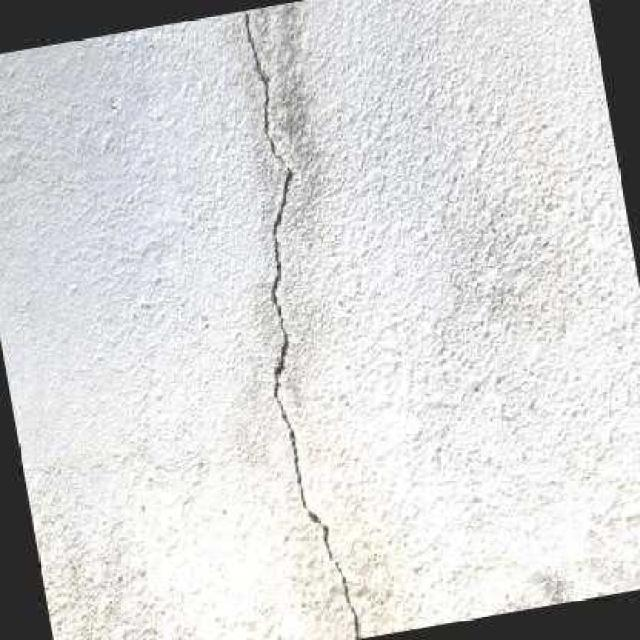D00: (239, 8, 305, 507), (303, 506, 360, 639)
